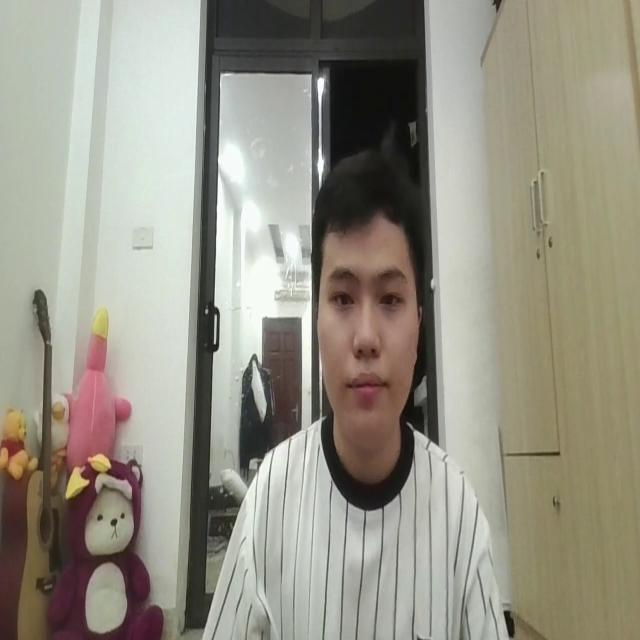student: (202, 148, 518, 640)
